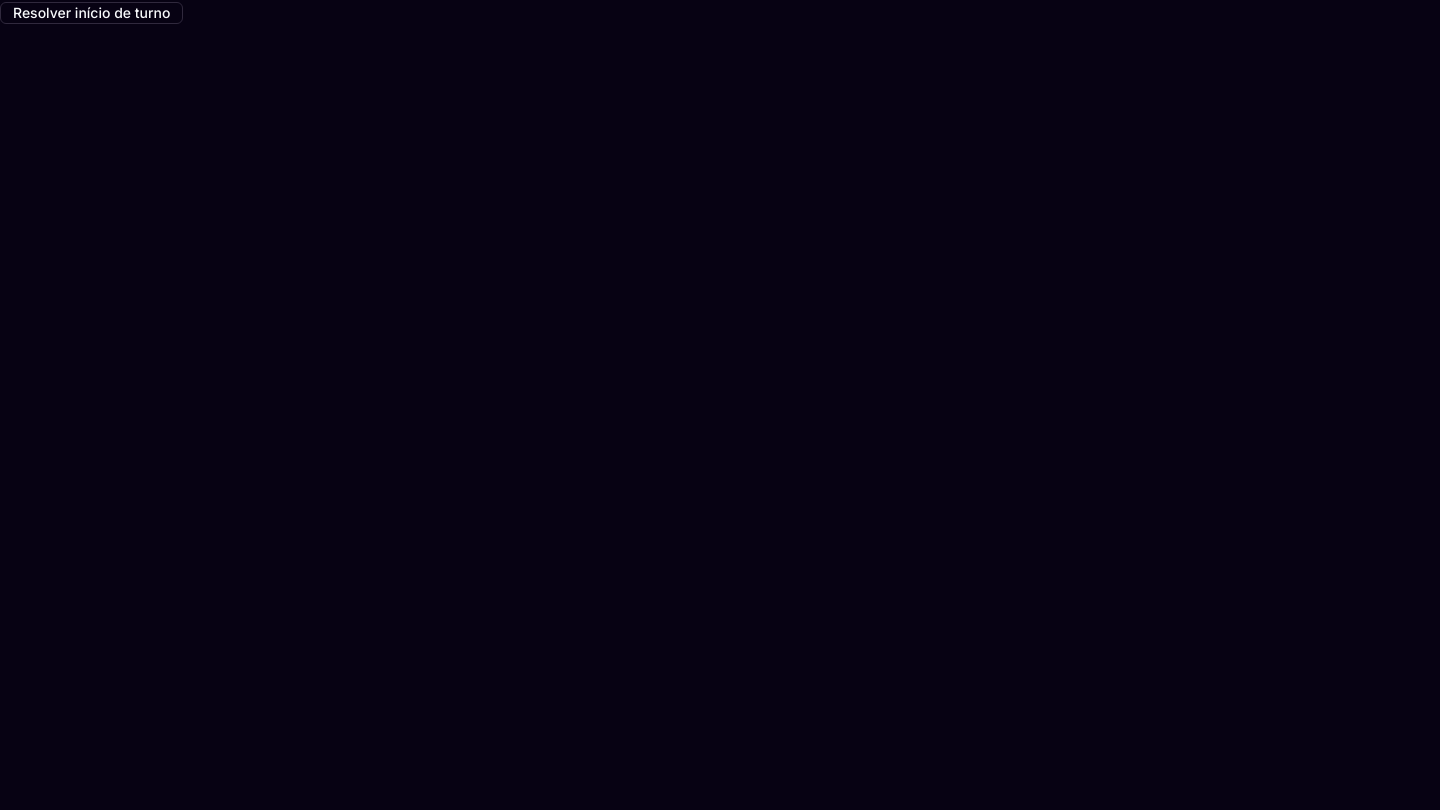
Confirmação de início de turno › ignora clique duplicado e impede cancelamento enquanto aguarda o servidor
Later steps or results of the test are not shown.
Step 1. Click the button "Resolver início de turno" → (92, 13), box [0,2,183,24]
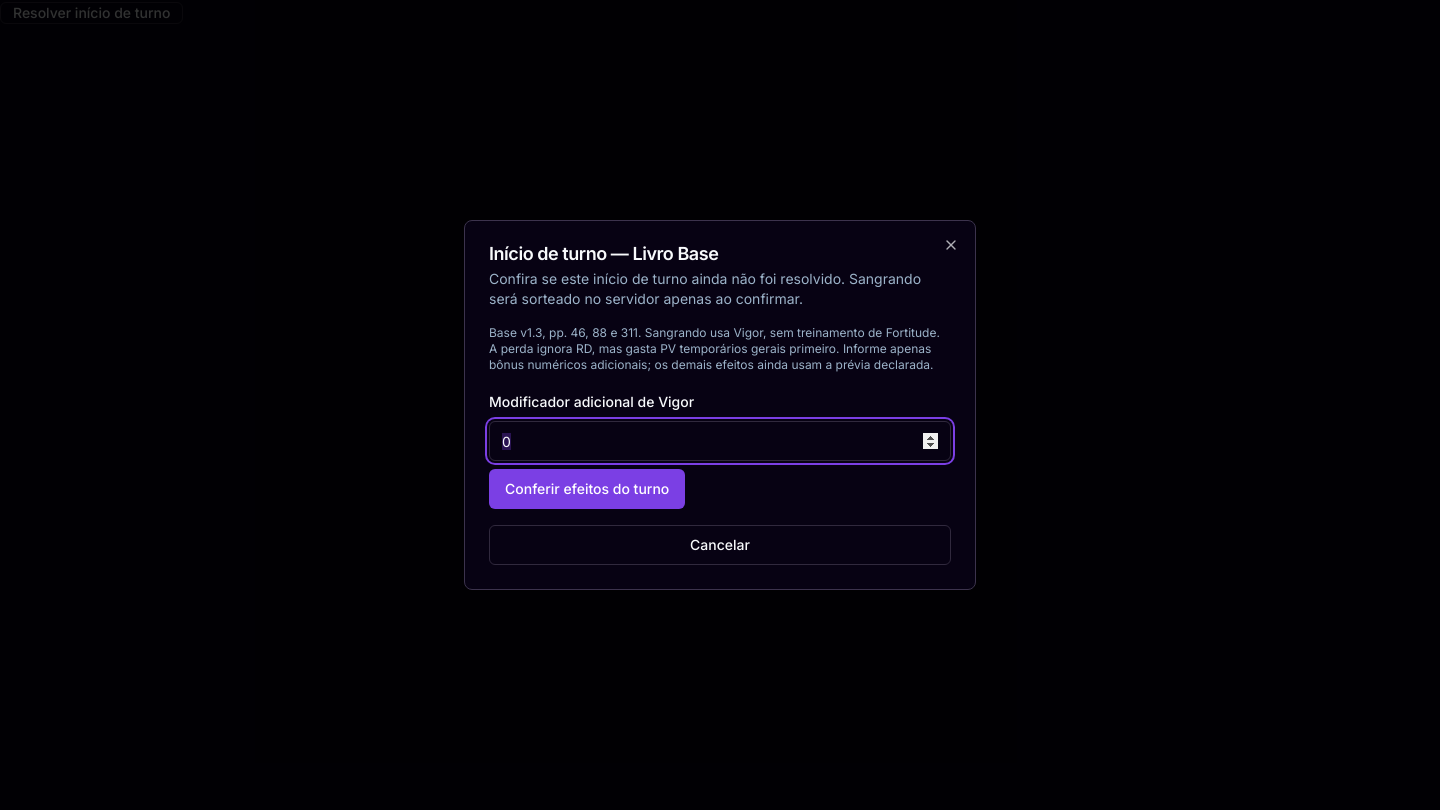
Step 2. Click the button "Conferir efeitos do turno" → (587, 489), box [489,469,685,509]
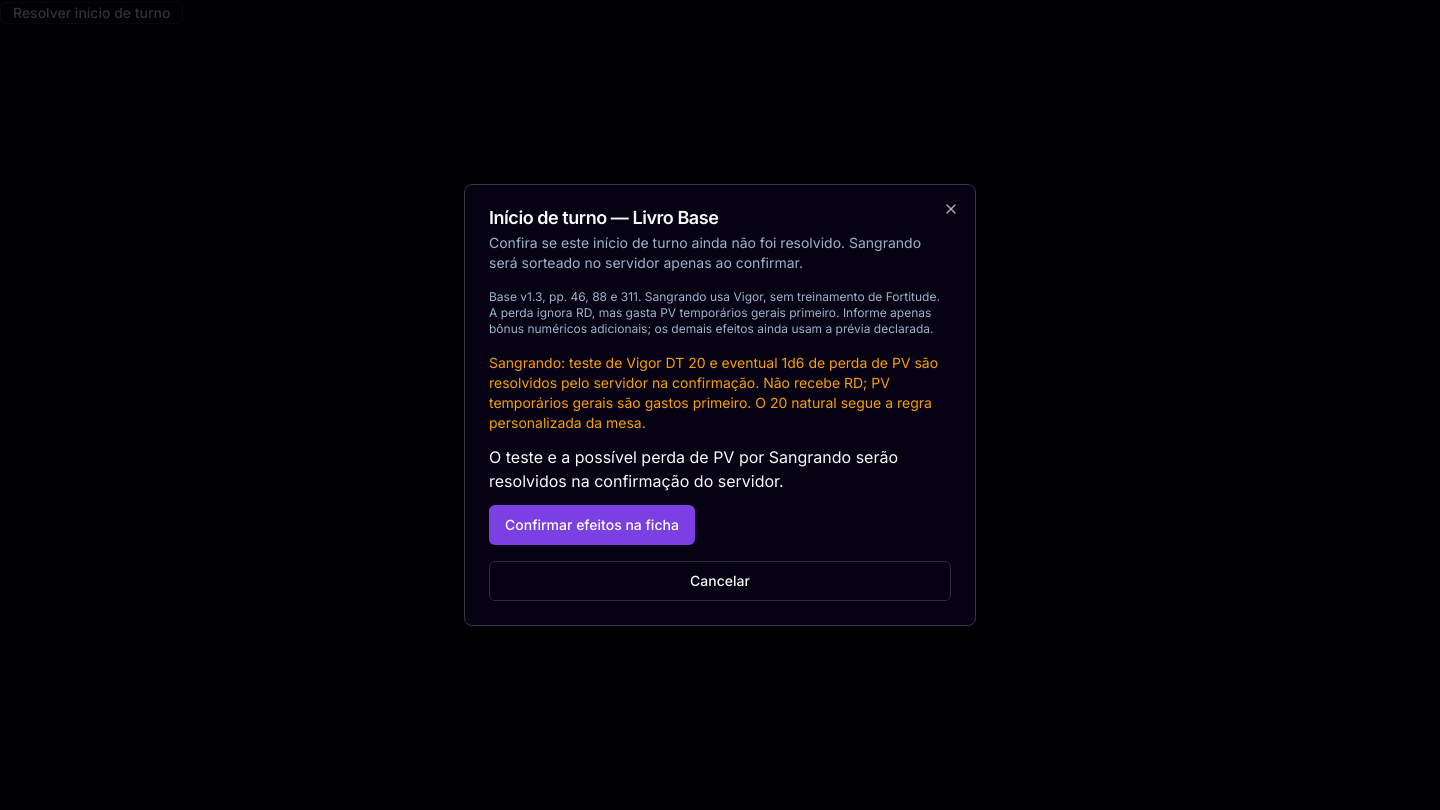
Step 3. Click the button "Confirmar efeitos na ficha" → (592, 525), box [489,505,695,545]
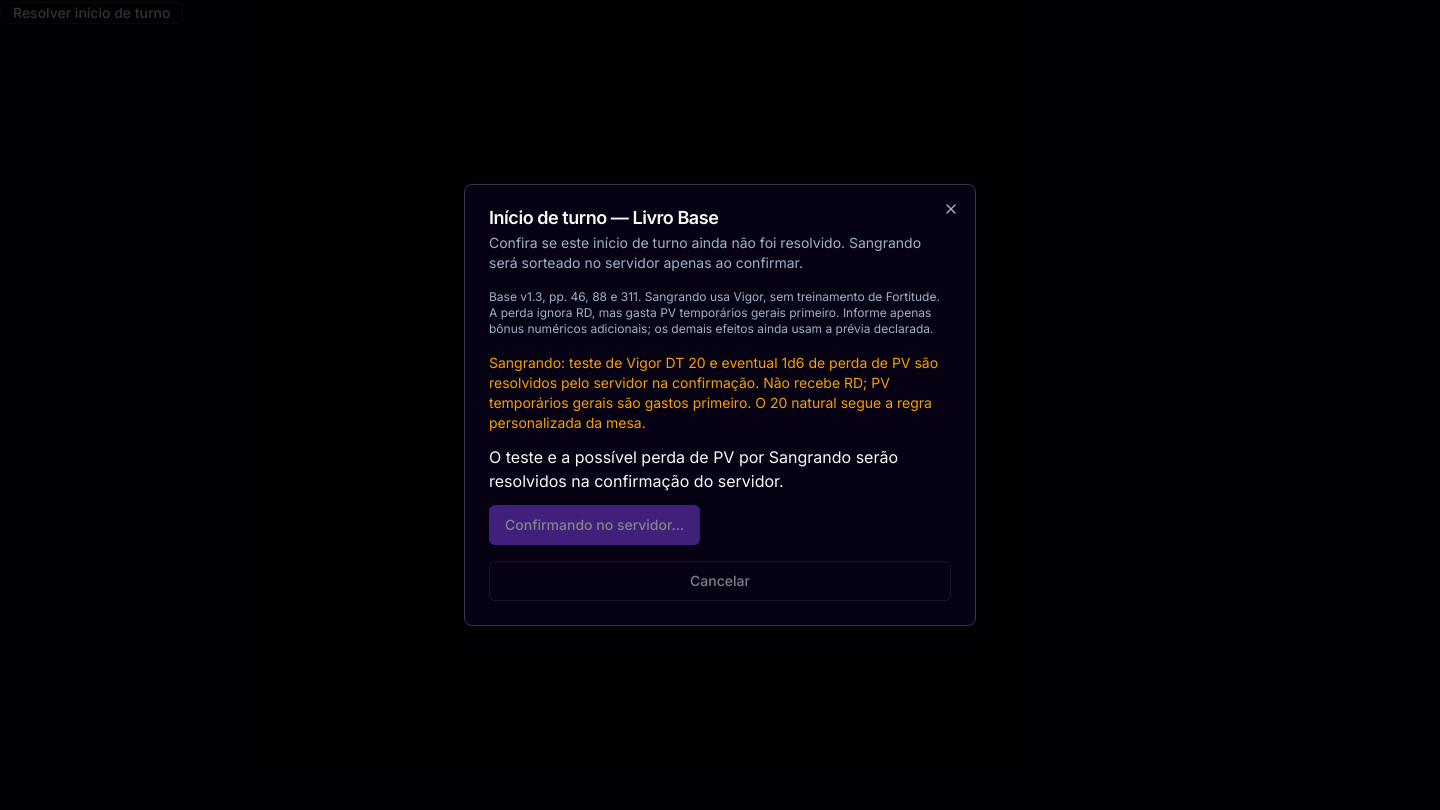
Step 4. Click the button named "Confirmar efeitos na ficha" → (595, 525), box [489,505,700,545]
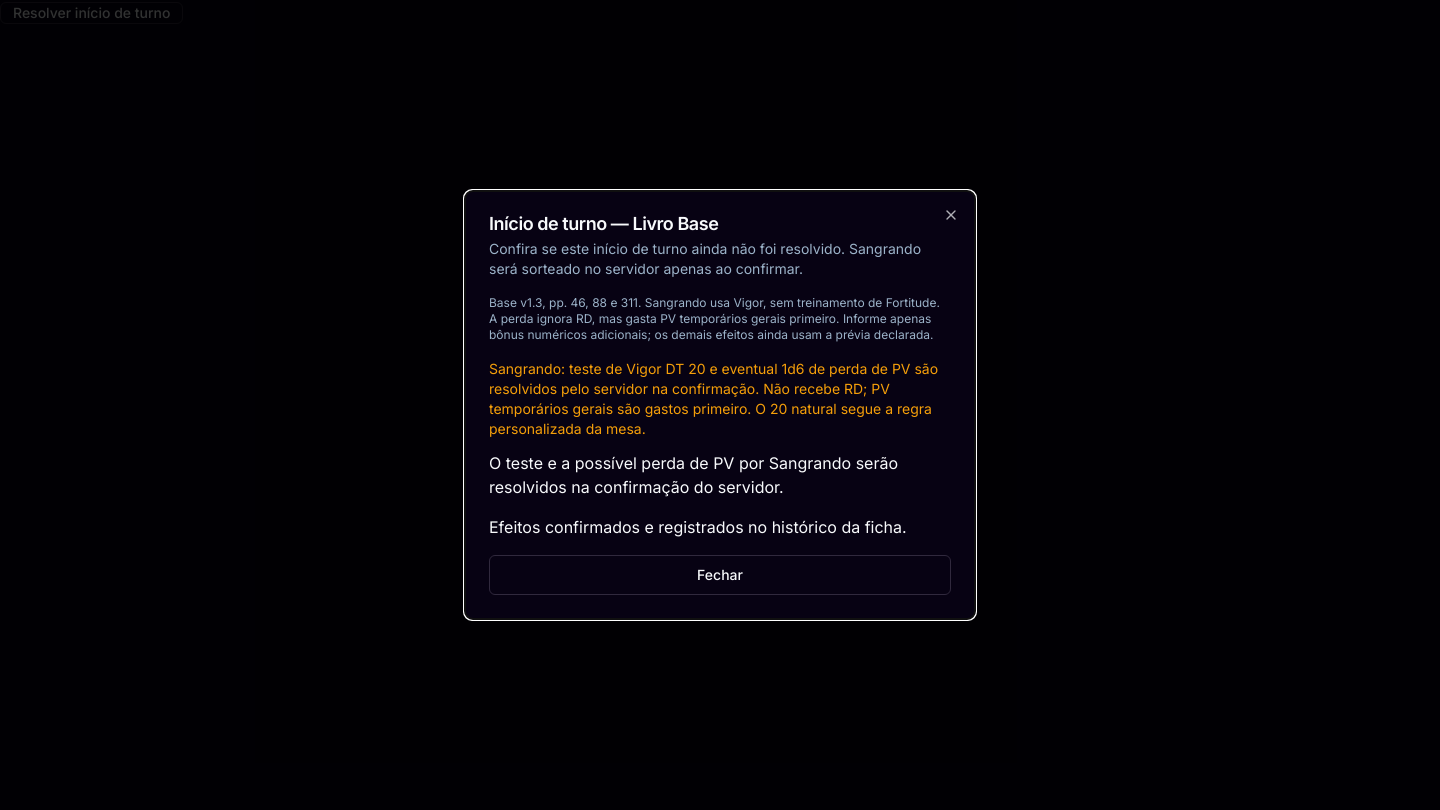
Expected: the text "Efeitos confirmados e registrados no histórico da ficha." is shown, [489,515,951,539]
